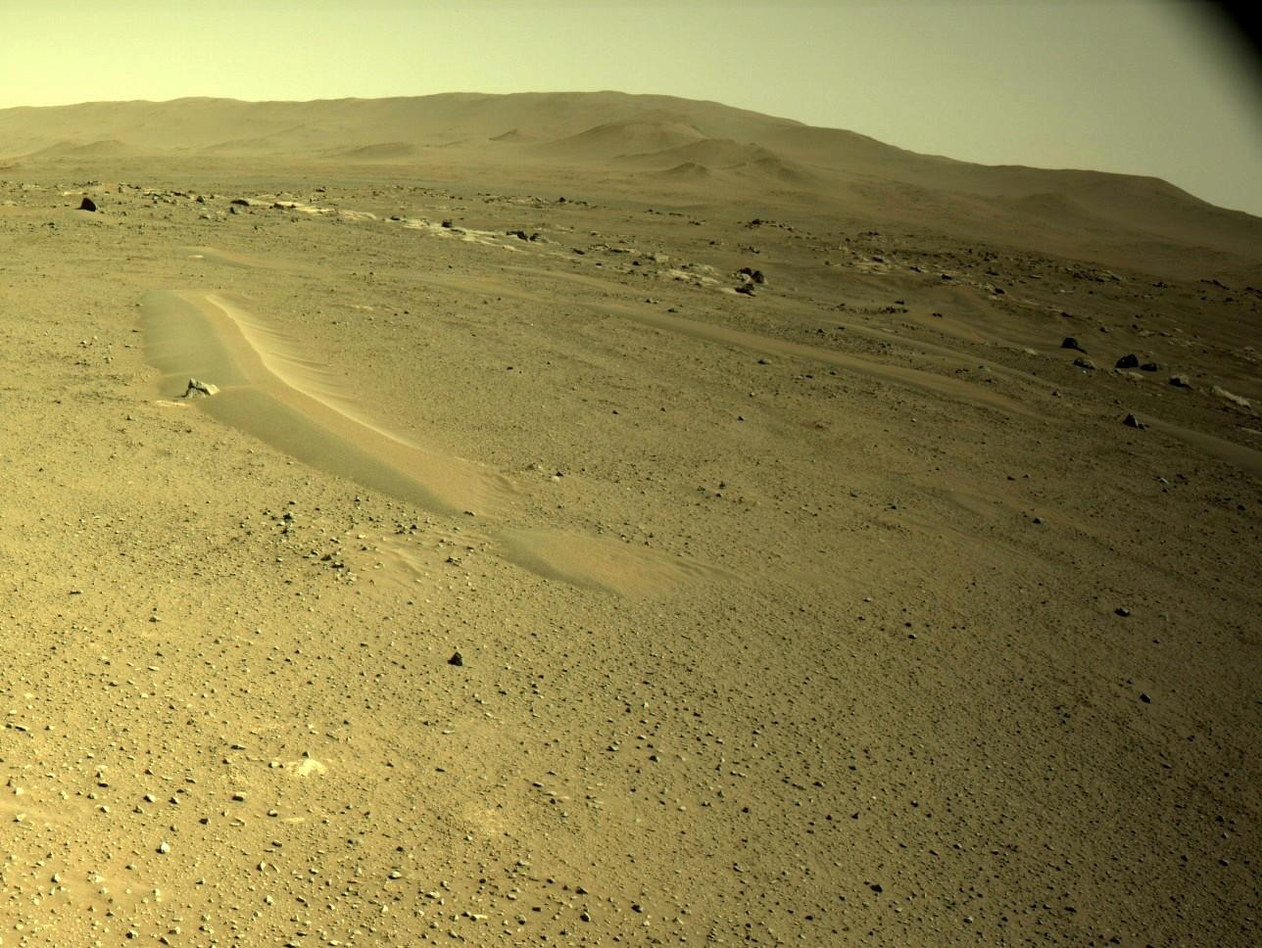bedrock: (19, 169, 849, 308), (963, 333, 1195, 408), (842, 246, 1100, 296), (1074, 333, 1222, 379), (310, 177, 470, 188), (24, 197, 74, 211)
sand: (15, 103, 1260, 321), (132, 284, 680, 606), (1253, 478, 1260, 671), (1252, 337, 1260, 383), (1252, 392, 1260, 431), (8, 182, 23, 196), (2, 233, 3, 299)
soil: (2, 207, 1255, 945), (666, 293, 885, 347), (1235, 376, 1251, 391), (1235, 320, 1251, 335), (0, 299, 1, 342)
